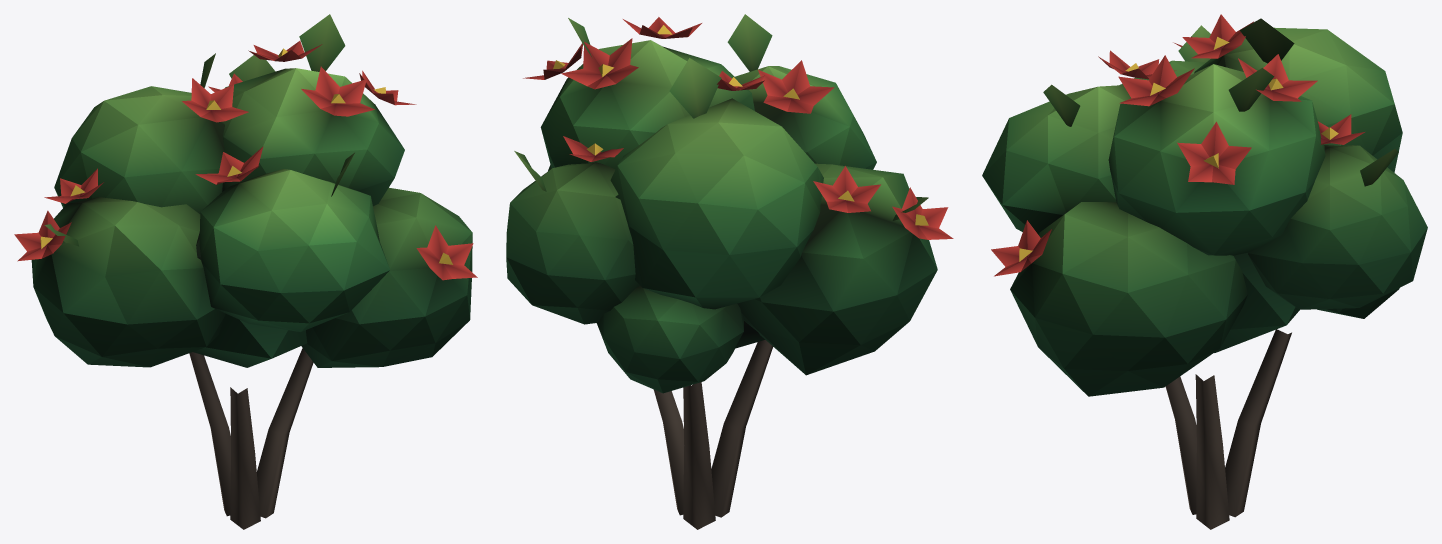
Rendered from deco-shrub.glb.
3 renders of one model, left to right at view 1: azimuth 30°, elevation 25°; view 2: azimuth 150°, elevation 25°; view 3: azimuth 270°, elevation 25°, orthographic. The views are drawn at different scales.
Visible parts, largest first — view 1: 0_shrub; view 2: 0_shrub; view 3: 0_shrub.
Part boxes in pixels (bbox=[...]): 0_shrub: bbox=[14, 14, 477, 529]; 0_shrub: bbox=[506, 14, 953, 529]; 0_shrub: bbox=[982, 14, 1427, 529].
Size of the model in its own units: 1.37 by 1.48 by 1.19.
